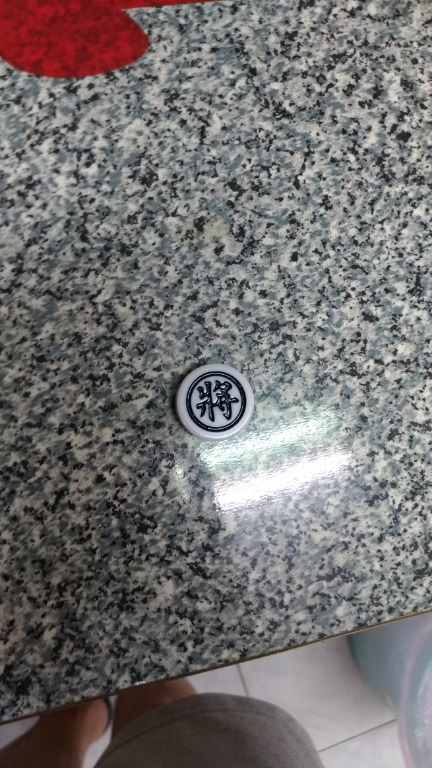b-king: (165, 356, 270, 454)
